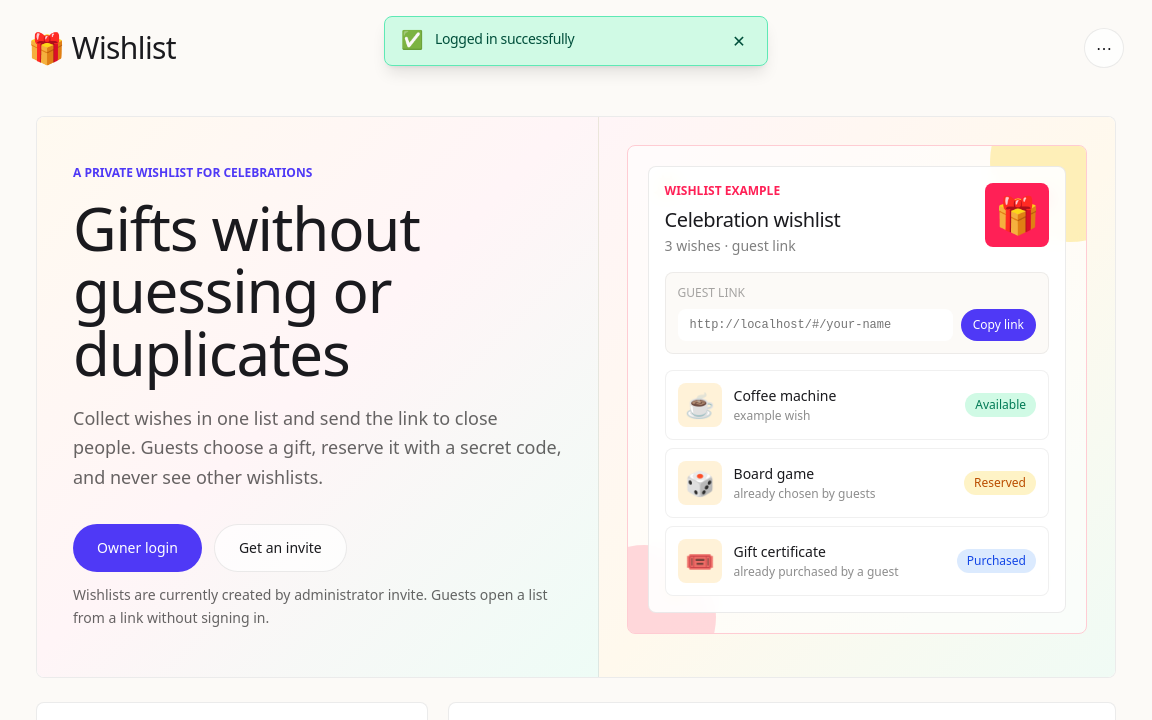
Scenario: App › opens invite instructions from the root invite CTA
What coordinates should you click on to do the following:
click the button "Get an invite"
I would click on:
 (280, 548)
Its box is [214, 524, 347, 572].
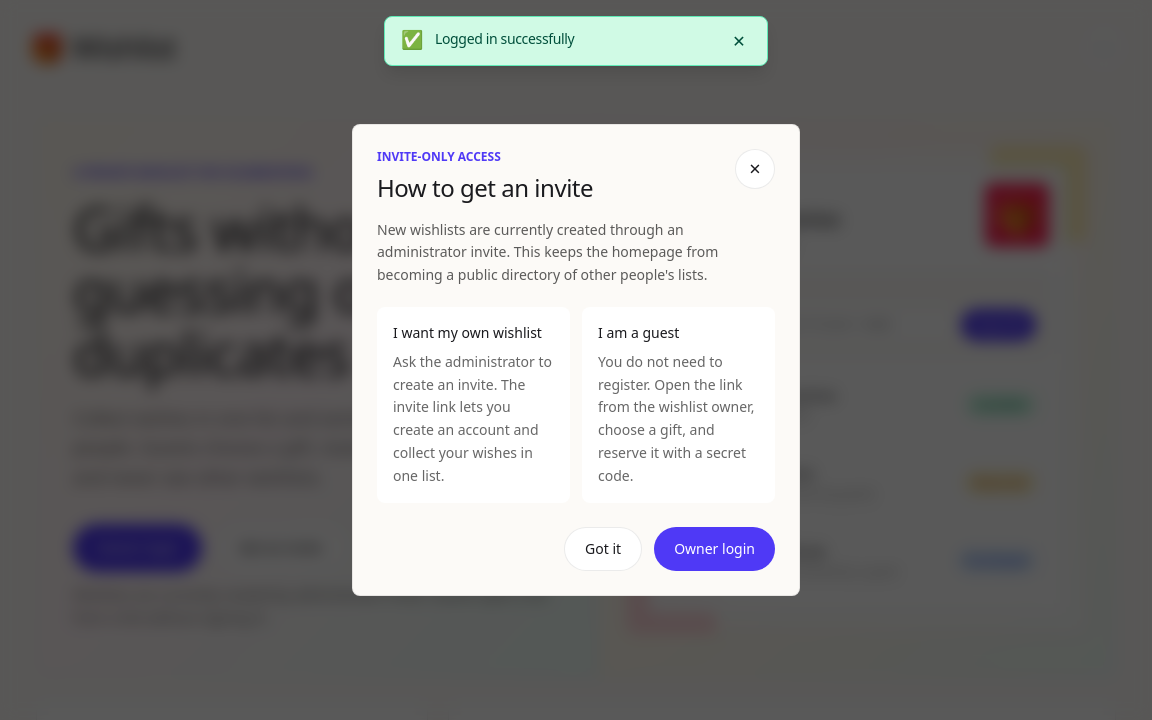
Expected: the text "How to get an invite" is shown, [377, 173, 593, 203]
Expected: the text "I want my own wishlist" is shown, [393, 323, 554, 343]
